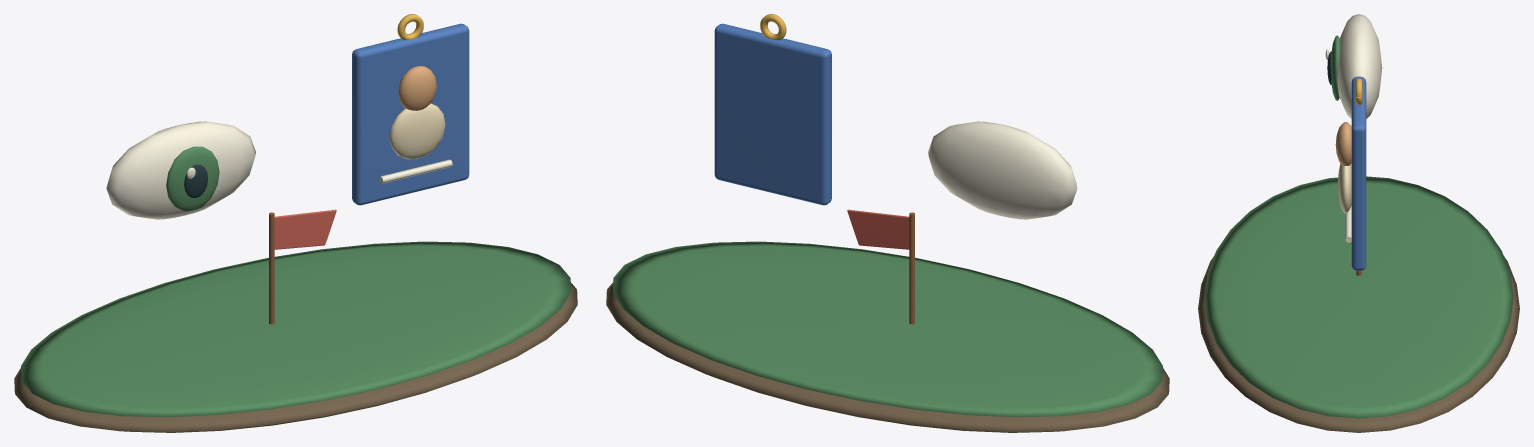
Rendered from complete-first-recognize-badge-sign.glb.
3 renders of one model, left to right at view 1: azimuth 30°, elevation 25°; view 2: azimuth 150°, elevation 25°; view 3: azimuth 270°, elevation 25°, orthographic. The views are drawn at different scales.
Visible parts, largest first — view 1: complete-first-recognize-badge-sign_surface_01, complete-first-recognize-badge-sign_surface_04, complete-first-recognize-badge-sign_surface_00, complete-first-recognize-badge-sign_surface_02, complete-first-recognize-badge-sign_surface_06, complete-first-recognize-badge-sign_surface_09, complete-first-recognize-badge-sign_surface_05, complete-first-recognize-badge-sign_surface_08, complete-first-recognize-badge-sign_surface_03; view 2: complete-first-recognize-badge-sign_surface_01, complete-first-recognize-badge-sign_surface_04, complete-first-recognize-badge-sign_surface_02, complete-first-recognize-badge-sign_surface_00, complete-first-recognize-badge-sign_surface_09, complete-first-recognize-badge-sign_surface_08; view 3: complete-first-recognize-badge-sign_surface_01, complete-first-recognize-badge-sign_surface_00, complete-first-recognize-badge-sign_surface_02, complete-first-recognize-badge-sign_surface_04, complete-first-recognize-badge-sign_surface_05, complete-first-recognize-badge-sign_surface_06.
Part boxes in pixels (box(x1,y1,x2,y2)): complete-first-recognize-badge-sign_surface_01: box(21, 146, 570, 417); complete-first-recognize-badge-sign_surface_04: box(352, 23, 469, 205); complete-first-recognize-badge-sign_surface_00: box(14, 282, 577, 432); complete-first-recognize-badge-sign_surface_02: box(106, 121, 452, 219); complete-first-recognize-badge-sign_surface_06: box(389, 103, 445, 159); complete-first-recognize-badge-sign_surface_09: box(274, 209, 336, 249); complete-first-recognize-badge-sign_surface_05: box(398, 66, 436, 110); complete-first-recognize-badge-sign_surface_08: box(269, 212, 274, 324); complete-first-recognize-badge-sign_surface_03: box(184, 164, 207, 197); complete-first-recognize-badge-sign_surface_01: box(613, 241, 1162, 417); complete-first-recognize-badge-sign_surface_04: box(714, 23, 831, 205); complete-first-recognize-badge-sign_surface_02: box(928, 121, 1077, 219); complete-first-recognize-badge-sign_surface_00: box(606, 282, 1169, 432); complete-first-recognize-badge-sign_surface_09: box(847, 209, 909, 249); complete-first-recognize-badge-sign_surface_08: box(909, 212, 914, 324); complete-first-recognize-badge-sign_surface_01: box(1204, 35, 1513, 418); complete-first-recognize-badge-sign_surface_00: box(1198, 256, 1519, 432); complete-first-recognize-badge-sign_surface_02: box(1325, 14, 1382, 242); complete-first-recognize-badge-sign_surface_04: box(1351, 76, 1366, 270); complete-first-recognize-badge-sign_surface_05: box(1335, 122, 1351, 165); complete-first-recognize-badge-sign_surface_06: box(1338, 164, 1351, 213).
Bounding box in the file's own units: 4.56 × 2.54 × 2.5.
